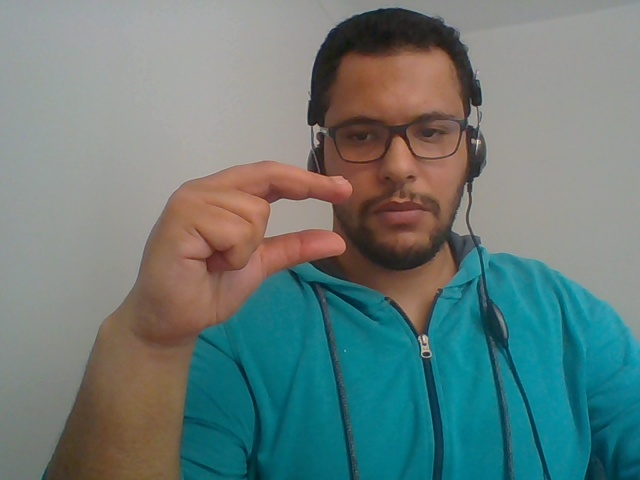no: (93, 127, 362, 390)
